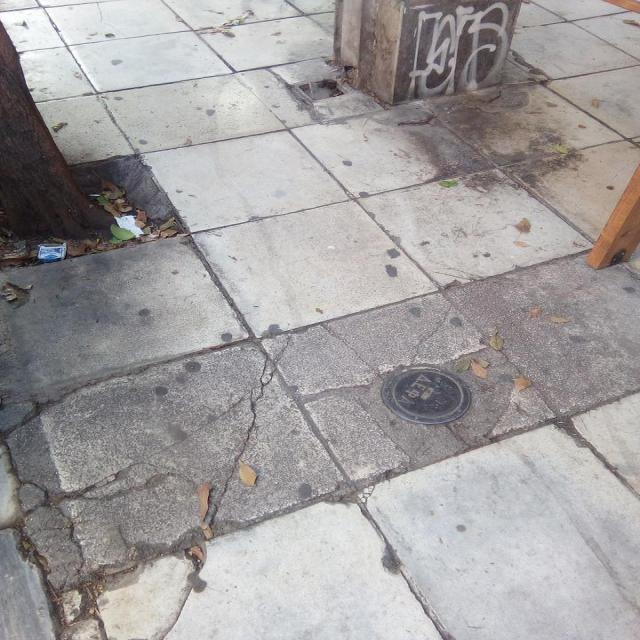nonspitting: (413, 0, 511, 97)
